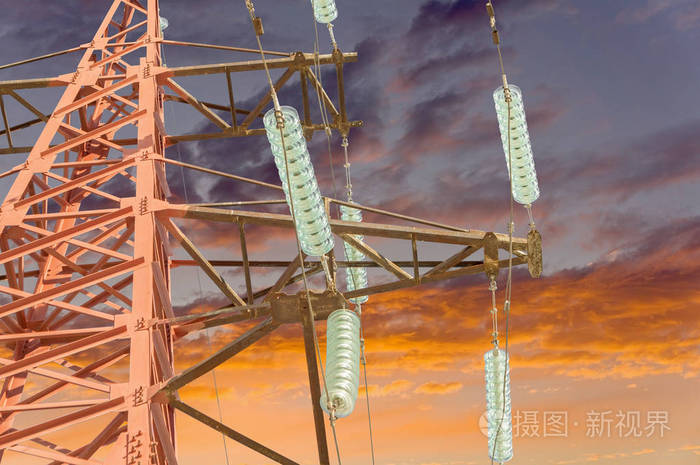insulator: (263, 106, 333, 256), (493, 83, 541, 204), (324, 308, 359, 416), (484, 348, 516, 461), (340, 202, 372, 306), (312, 1, 339, 26)
